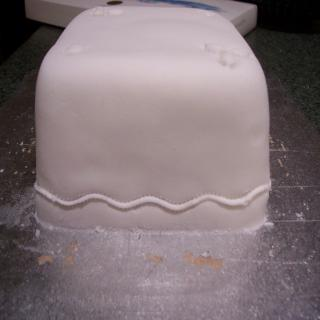Cake: (34, 6, 270, 228)
